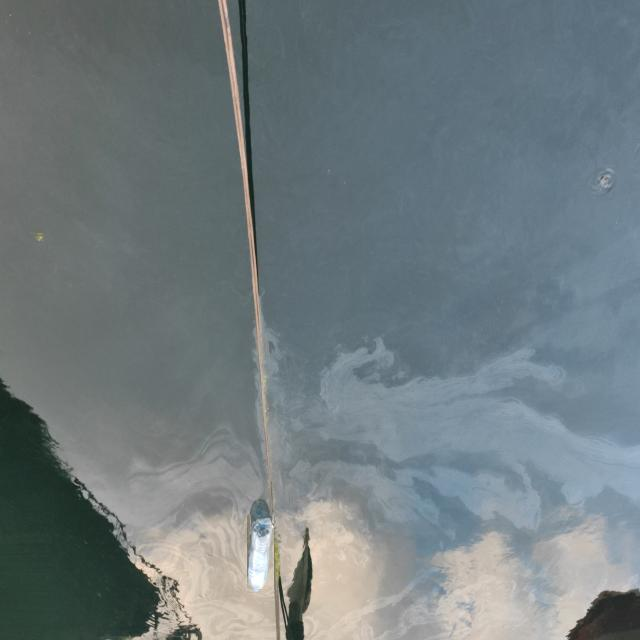Plastic bottle: (247, 515, 274, 594)
